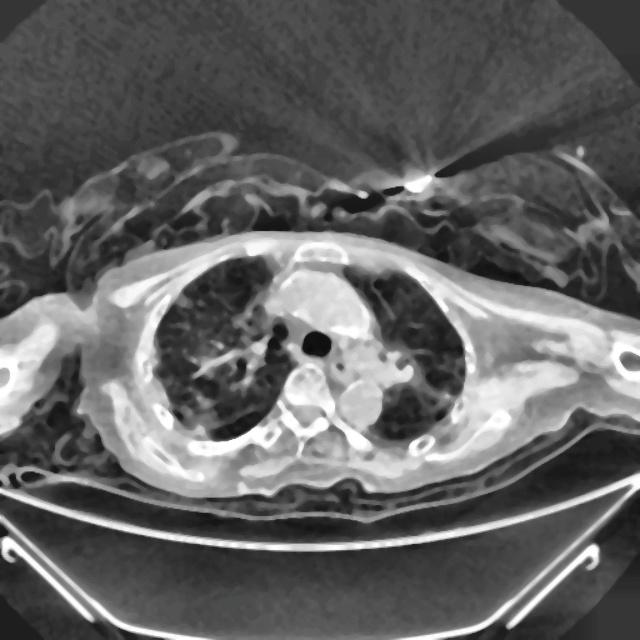covid: (2, 226, 638, 523)
